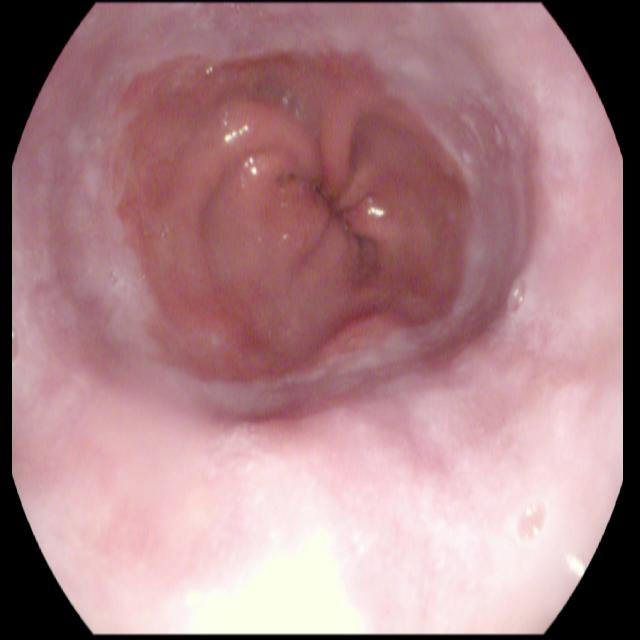esophagitis: (106, 23, 475, 399)
